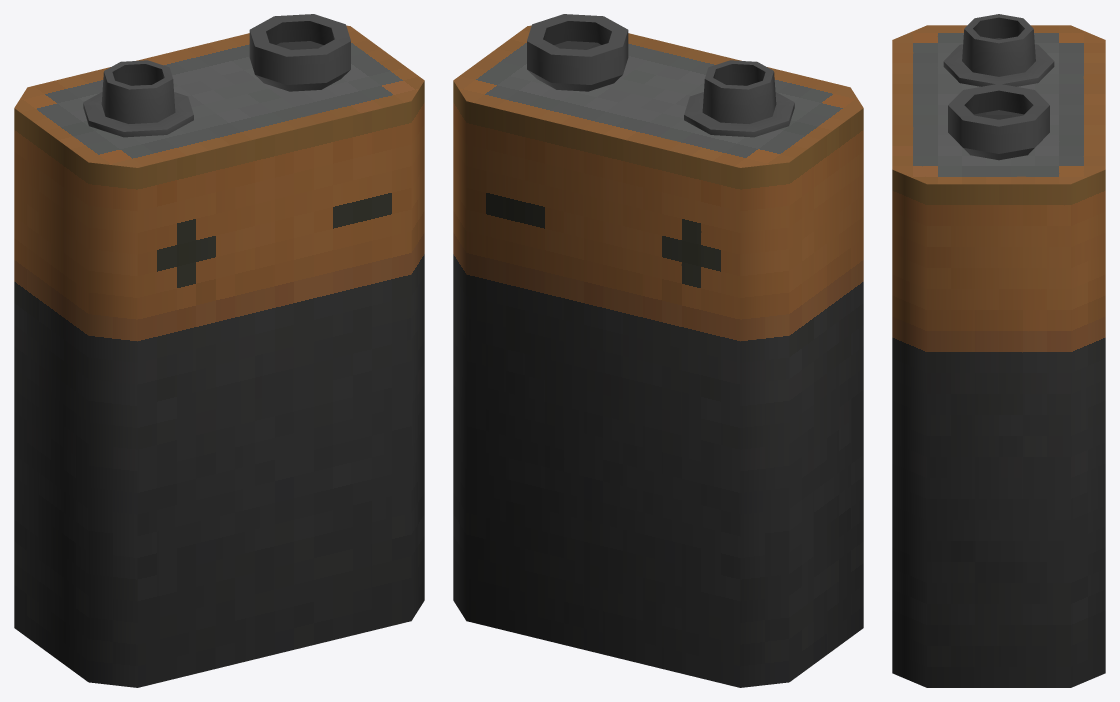
File: battery_mp_3_2.glb
3 views of the same model, side by side, from view 1: azimuth 30°, elevation 25°; view 2: azimuth 150°, elevation 25°; view 3: azimuth 270°, elevation 25° (orthographic). The views are drawn at different scales.
Visible parts, largest first — view 1: battery_mp_3_2; view 2: battery_mp_3_2; view 3: battery_mp_3_2.
Boxes of the visible parts, x1,y1,x2,y2 form: battery_mp_3_2: [14, 14, 424, 687]; battery_mp_3_2: [453, 14, 863, 687]; battery_mp_3_2: [892, 14, 1105, 687].
Bounding box in the file's own units: 0.0648 × 0.103 × 0.0368.
Materials: 1 (1 with a texture image).
